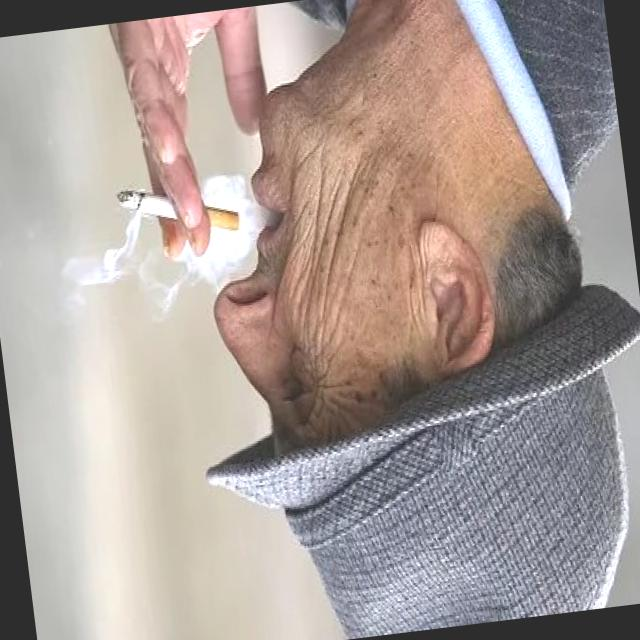cigarette: (109, 161, 246, 252)
